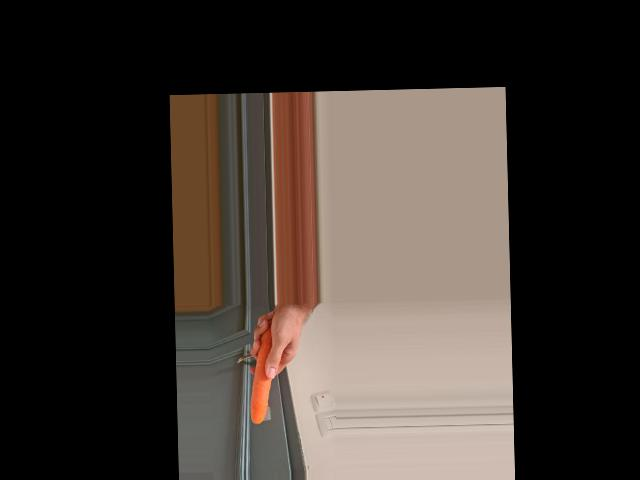carrot: (248, 318, 278, 424)
